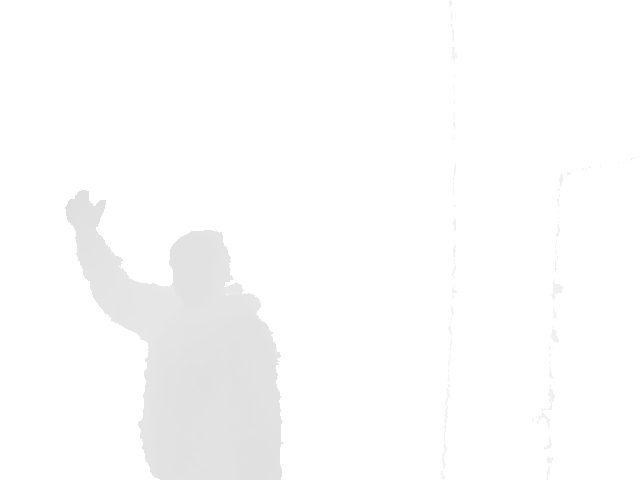hand: (65, 189, 108, 230)
head: (169, 230, 234, 305)
person: (65, 189, 285, 480)
